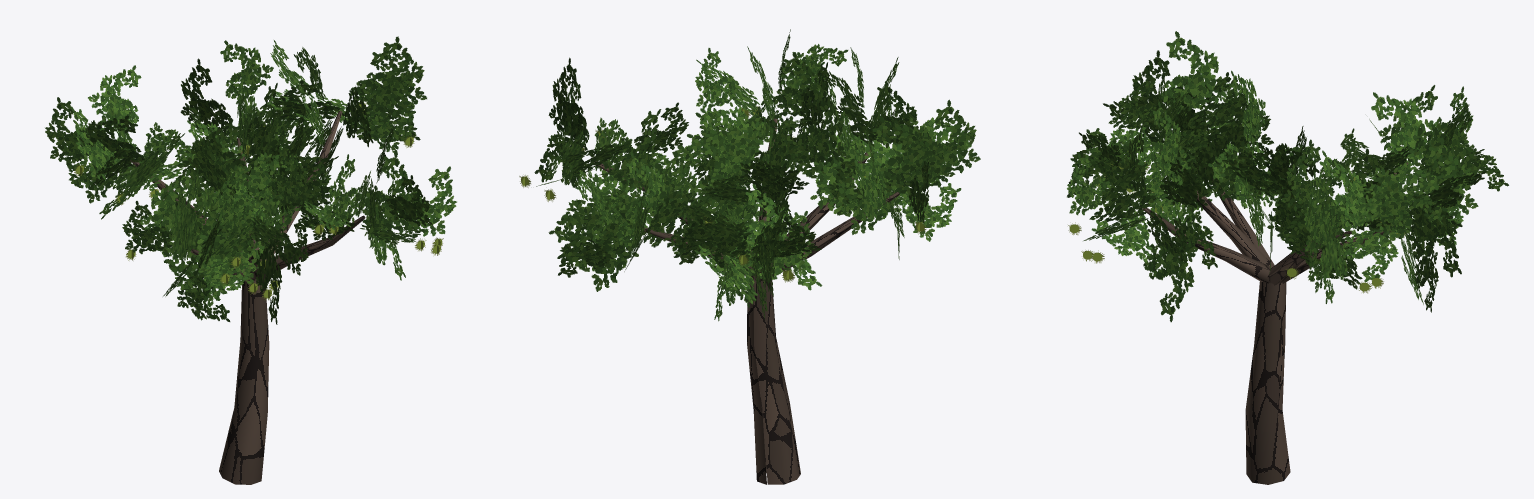
File: flora_chestnut.glb
3 renders of one model, left to right at view 1: azimuth 30°, elevation 25°; view 2: azimuth 150°, elevation 25°; view 3: azimuth 270°, elevation 25°, orthographic. The views are drawn at different scales.
Visible parts, largest first — view 1: flora_chestnut; view 2: flora_chestnut; view 3: flora_chestnut.
Boxes of the visible parts, left/top/right/bottom form: flora_chestnut: left=45, top=36, right=456, bottom=484; flora_chestnut: left=519, top=29, right=980, bottom=484; flora_chestnut: left=1067, top=31, right=1508, bottom=484.
Bounding box in the file's own units: 6.43 × 6.68 × 6.83.
3 materials, 3 textured.
